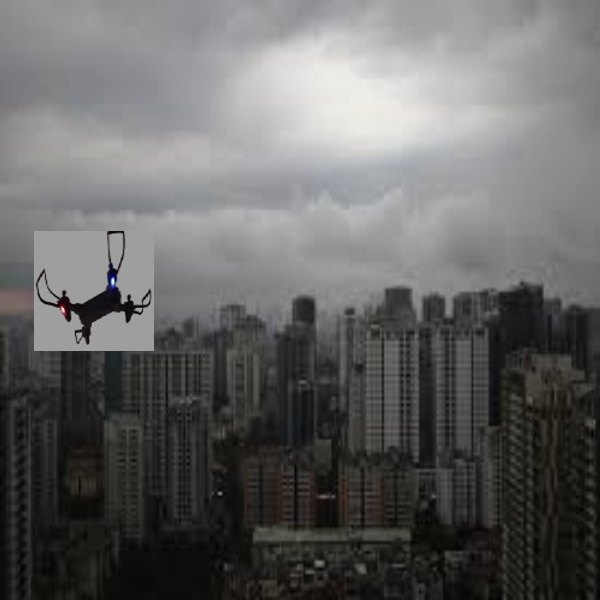drone: (31, 222, 156, 356)
